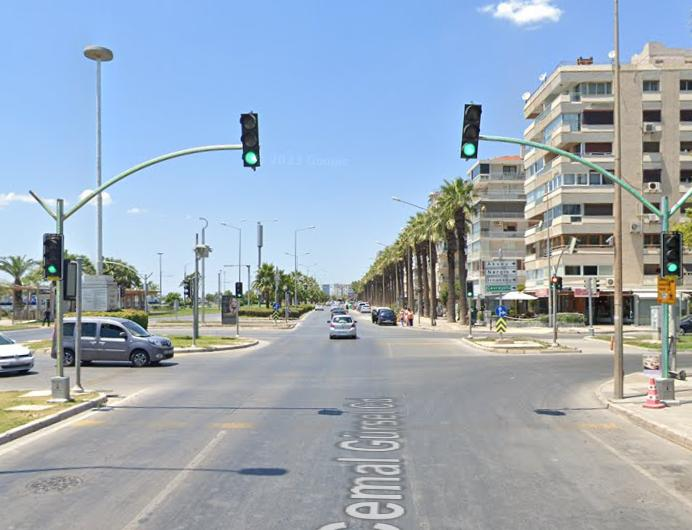greenlight: (459, 105, 482, 161), (239, 112, 261, 166), (662, 232, 684, 278), (43, 234, 59, 276), (237, 282, 243, 297), (467, 282, 472, 299)
